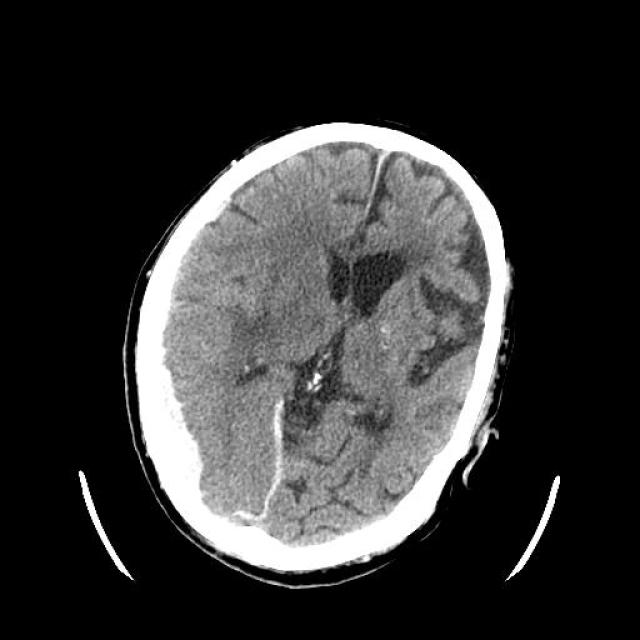Subdural: (214, 394, 311, 548)
